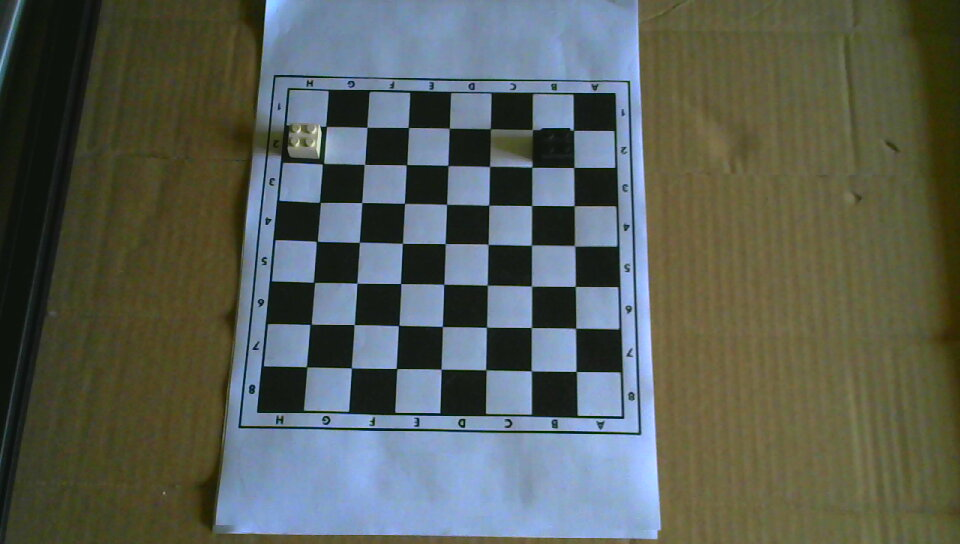bp: (537, 127, 574, 166)
wp: (287, 120, 323, 159)
